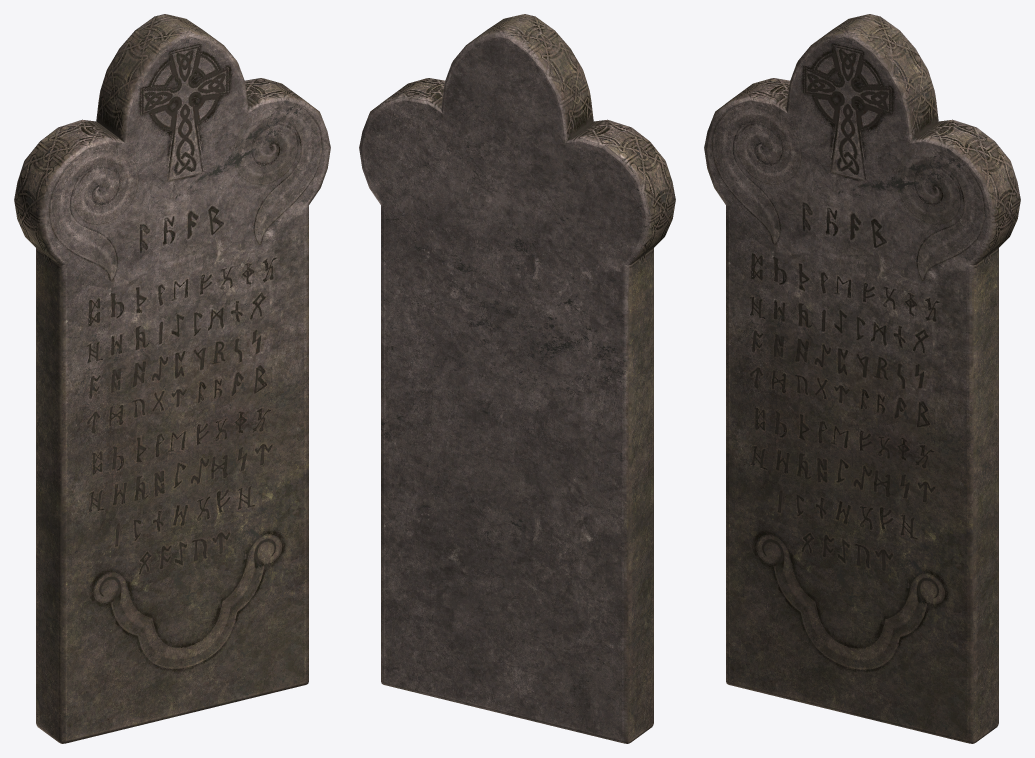
Rendered from SM_gravestone_07.fbx.
The picture shows the model from 3 angles, left to right: view 1: azimuth 30°, elevation 25°; view 2: azimuth 150°, elevation 25°; view 3: azimuth 330°, elevation 25°; orthographic projection.
Visible parts, largest first — view 1: SM_gravestone_07; view 2: SM_gravestone_07; view 3: SM_gravestone_07.
Part boxes in pixels (bbox=[...]): SM_gravestone_07: bbox=[14, 14, 330, 743]; SM_gravestone_07: bbox=[359, 14, 675, 743]; SM_gravestone_07: bbox=[704, 14, 1020, 743].
Bounding box in the file's own units: 60.09 × 134 × 9.66.
